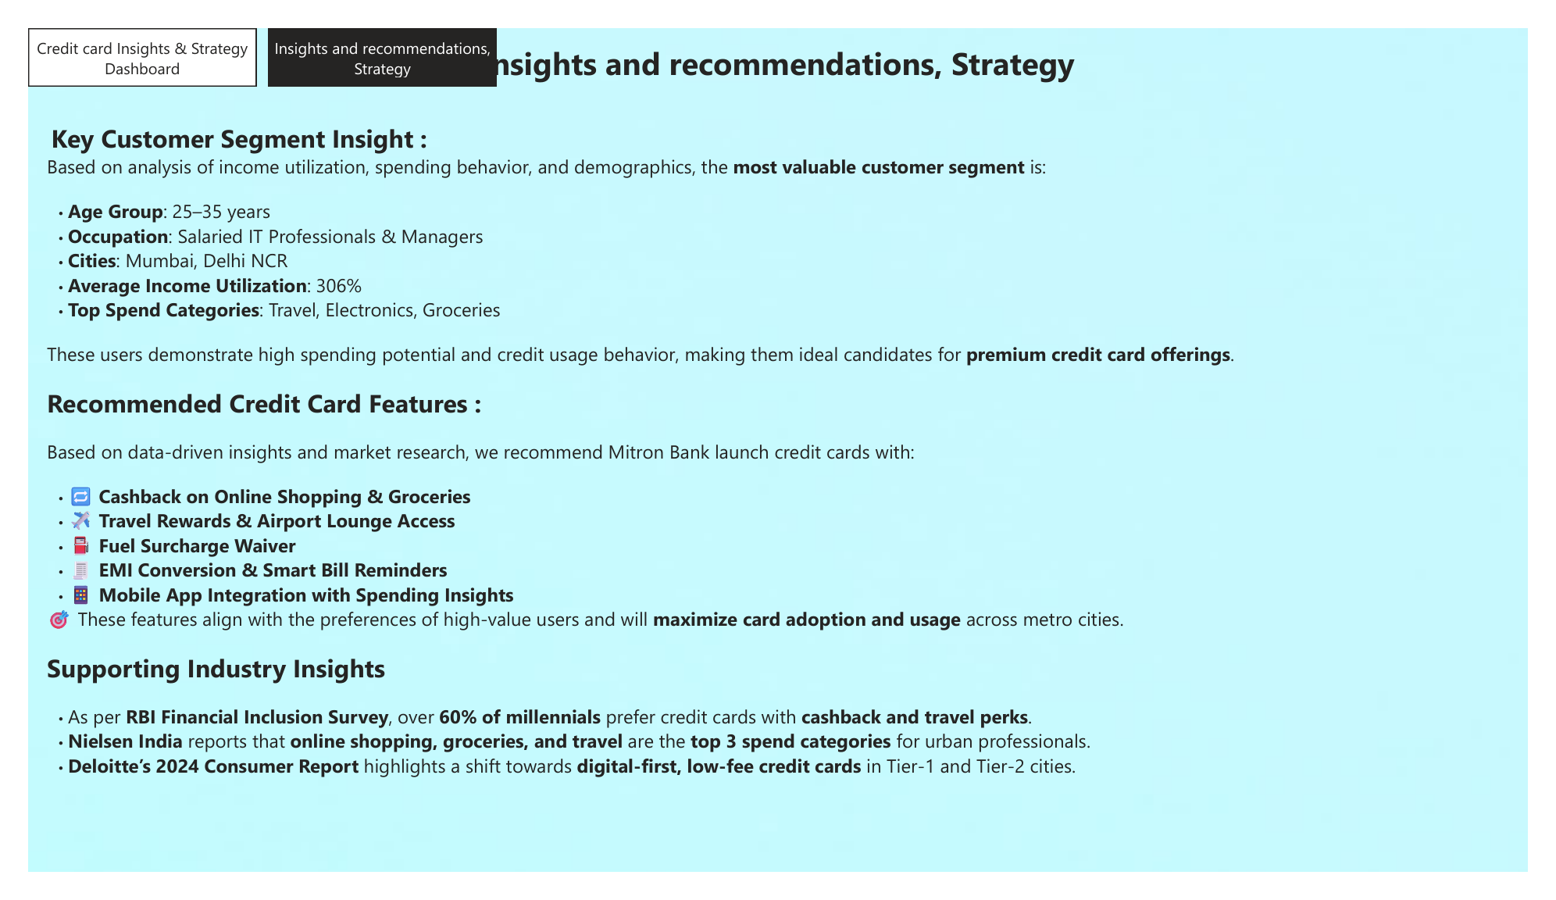

The page's visual inventory and layout, read from the dashboard file:
{"tool":"powerbi","page":{"name":"Insights and recommendations, Strategy","canvas":[1280,720],"ordinal":1},"visuals":[{"type":"textbox","box":[11,6.1,1257.7,58.9],"z":0},{"type":"textbox","box":[11,73.6,1257.7,634.4],"z":1000},{"type":"pageNavigator","box":[11,12.3,358.3,47.9],"z":2000}]}

Visuals, with their boxes on the page's 1280x720 design canvas (x1, y1, x2, y2). These are canvas units, not pixel positions in the 1556x900 screenshot, which may show the page scaled, cropped or inside an application window:
textbox: 11 6 1269 65
textbox: 11 74 1269 708
pageNavigator: 11 12 369 60
